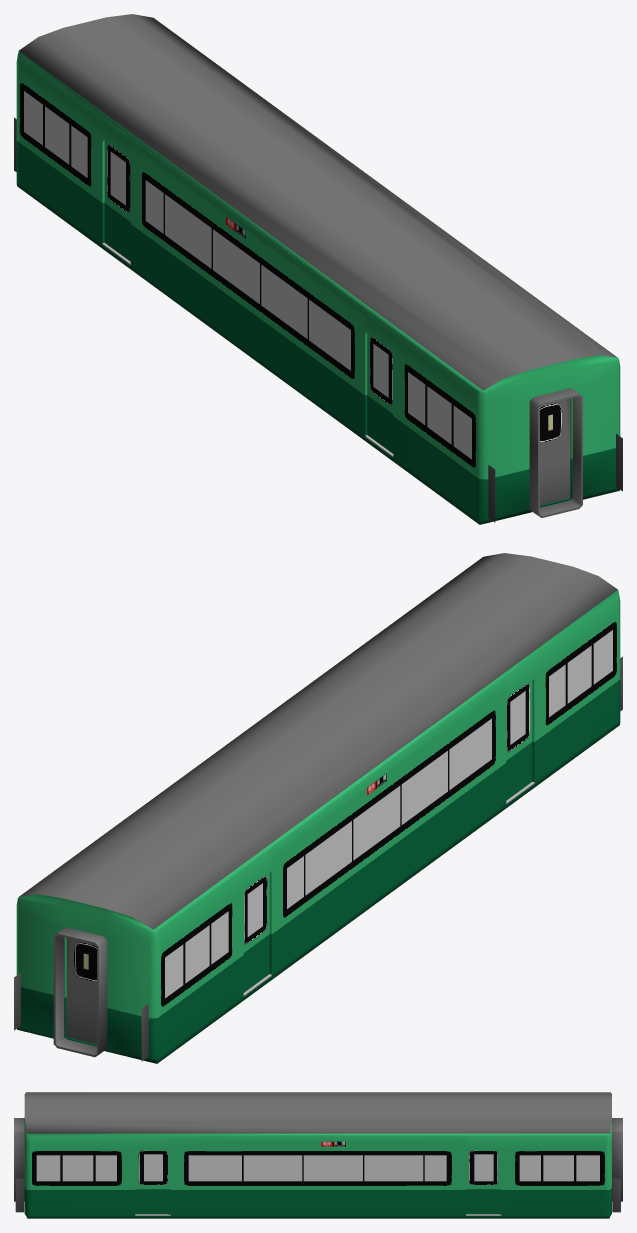
3 renders of one model, top to bottom at view 1: azimuth 30°, elevation 25°; view 2: azimuth 150°, elevation 25°; view 3: azimuth 270°, elevation 25°, orthographic. The views are drawn at different scales.
Visible parts, largest first — view 1: in; view 2: in; view 3: in.
Part boxes in pixels (box(x1,y1,x2,y2)): in: box(14, 14, 622, 524); in: box(14, 553, 622, 1063); in: box(14, 1092, 622, 1218).
Size of the model in its own units: 6.54 by 6.4 by 38.79.
12 materials, 10 textured.
